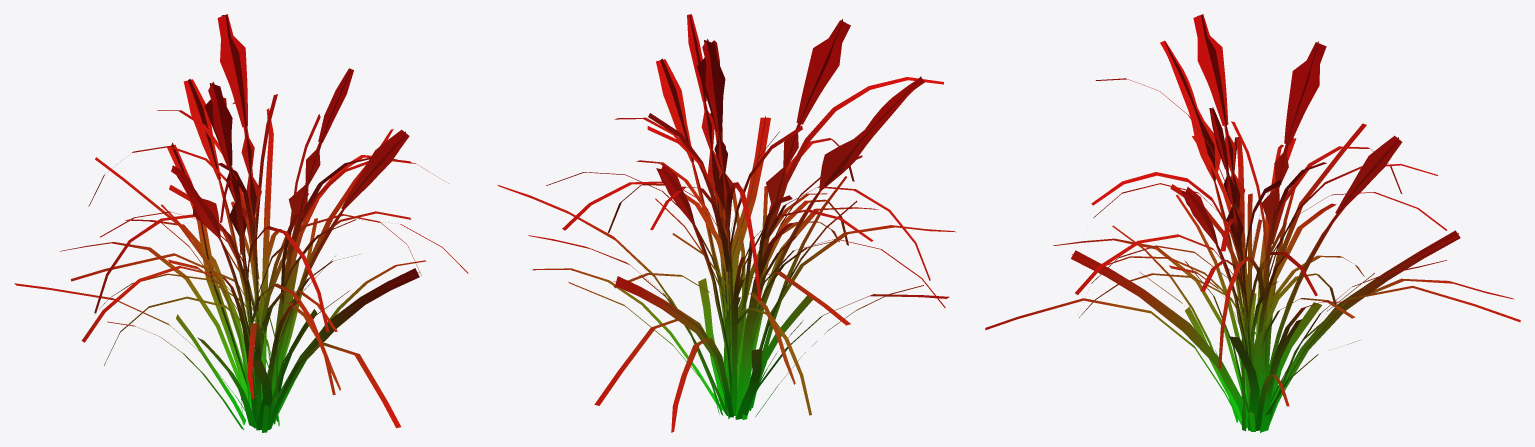
The model's file is Basket Grass_LOD2_Var1_slfpffjr.fbx.
3 renders of one model, left to right at view 1: azimuth 30°, elevation 25°; view 2: azimuth 150°, elevation 25°; view 3: azimuth 270°, elevation 25°, orthographic. The views are drawn at different scales.
Visible parts, largest first — view 1: _83b9_Var1_LOD2; view 2: _83b9_Var1_LOD2; view 3: _83b9_Var1_LOD2.
Boxes of the visible parts, x1,y1,x2,y2 form: _83b9_Var1_LOD2: (14, 14, 468, 432); _83b9_Var1_LOD2: (497, 14, 956, 432); _83b9_Var1_LOD2: (985, 14, 1520, 432).
Size of the model in its own units: 70.1 by 63.83 by 80.78.
